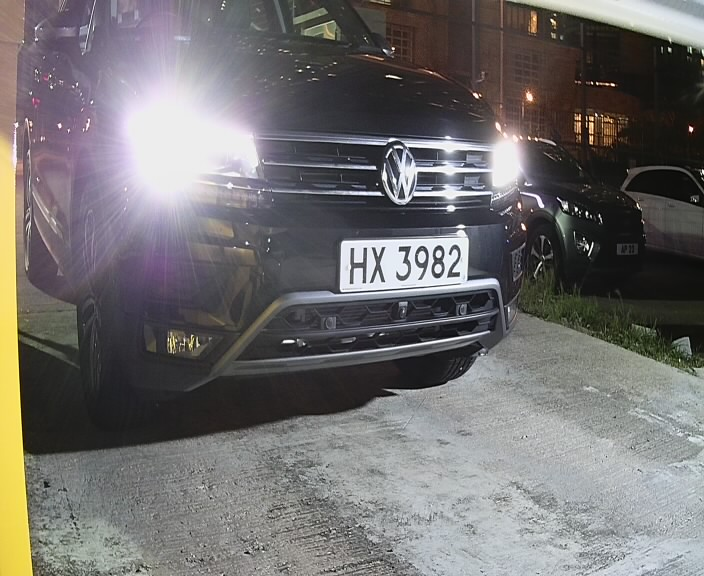License Plate: (335, 229, 478, 302)
